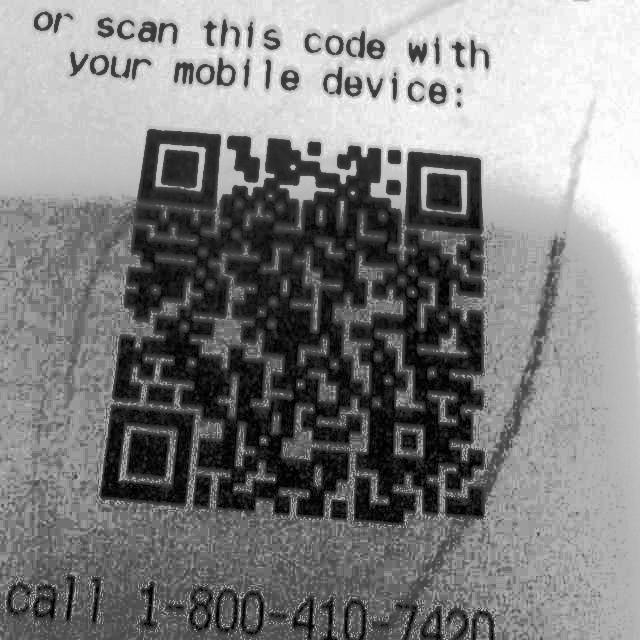qr_code: (88, 104, 510, 543)
